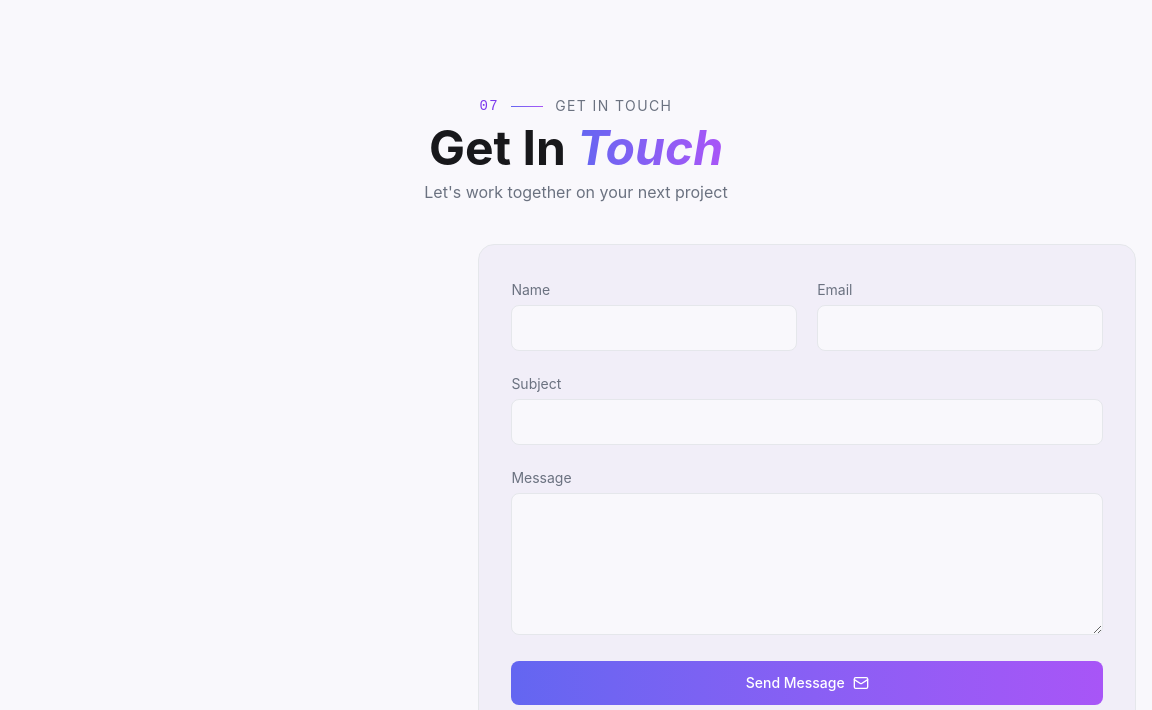
Contact › shows validation errors when submitted empty
Click the button "Send Message".
click(807, 683)  # box x1=511 y1=661 x2=1103 y2=705
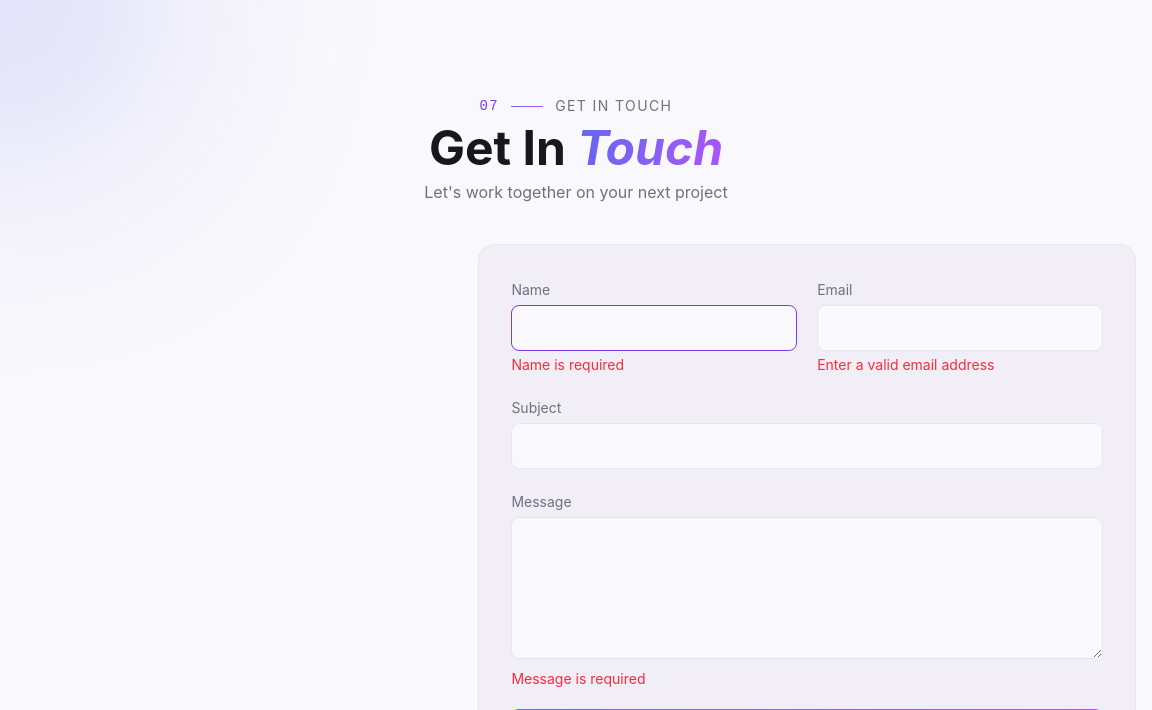
Now the text "Name is required" is shown, box x1=511 y1=356 x2=624 y2=373
Now the text "Enter a valid email address" is shown, box x1=817 y1=356 x2=994 y2=373
Now the text "Message is required" is shown, box x1=511 y1=670 x2=646 y2=687
